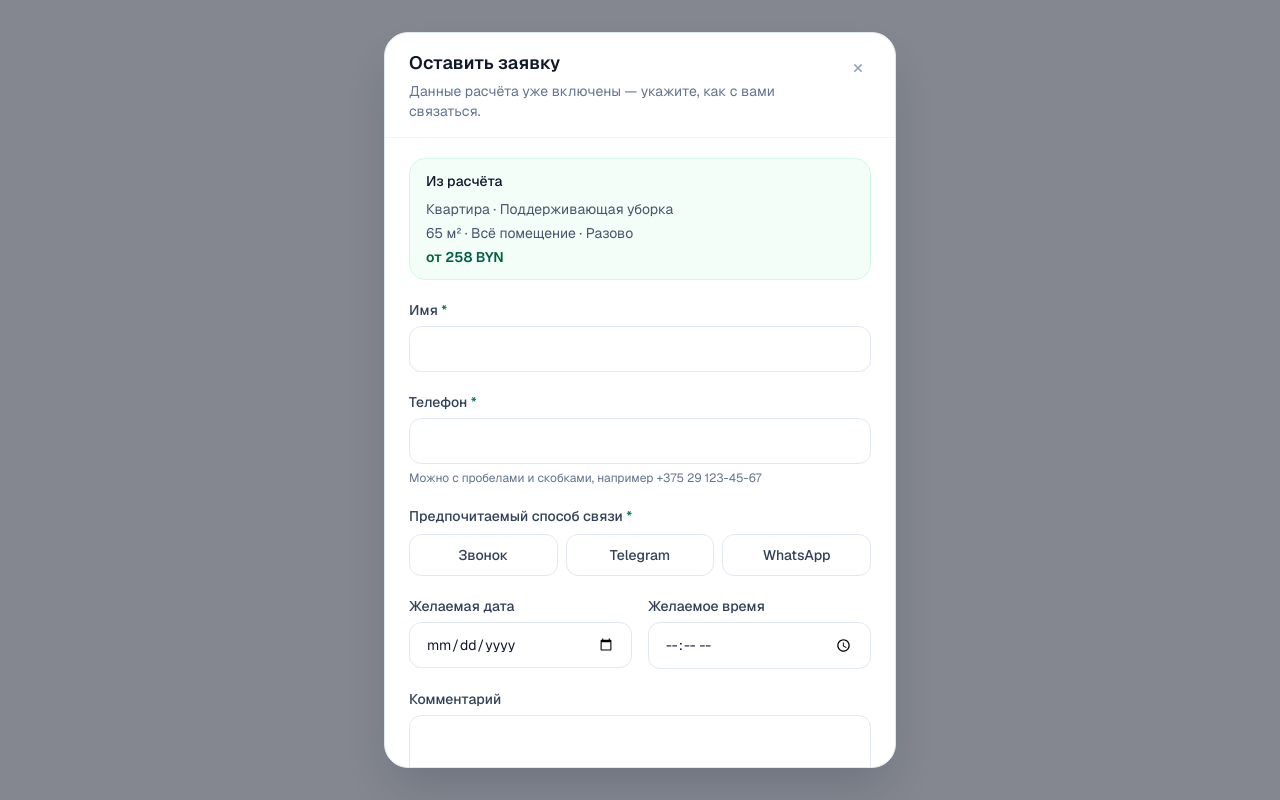
RequestQuoteDialog › shows invalid phone error near the phone field
The width and height of the screenshot is (1280, 800).
Expected: the form with test id "request-quote-form" is shown, [409,158,871,767]
Step 1. Type "Анна" into the field labelled "Имя *" → (640, 349), box [409,326,871,372]
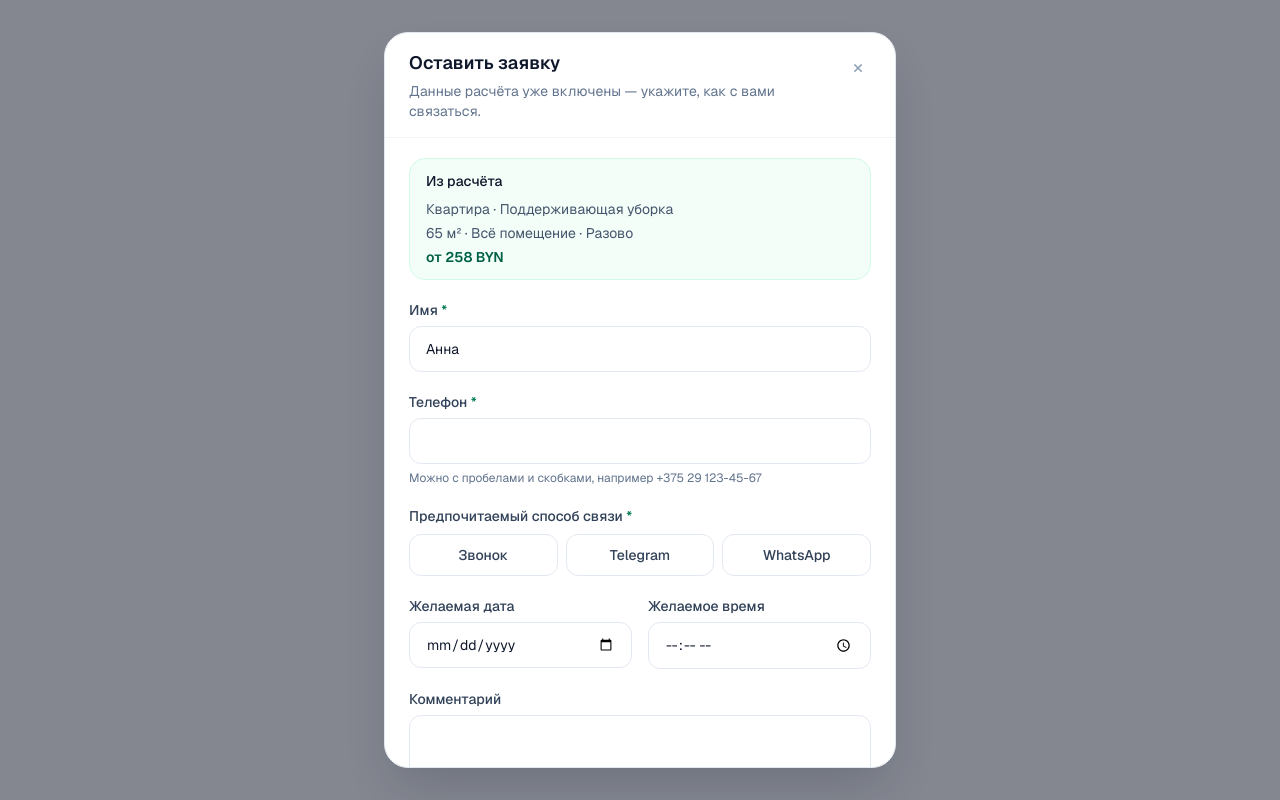
Step 2. Type "123" into the field labelled "Телефон *" → (640, 441), box [409,418,871,464]
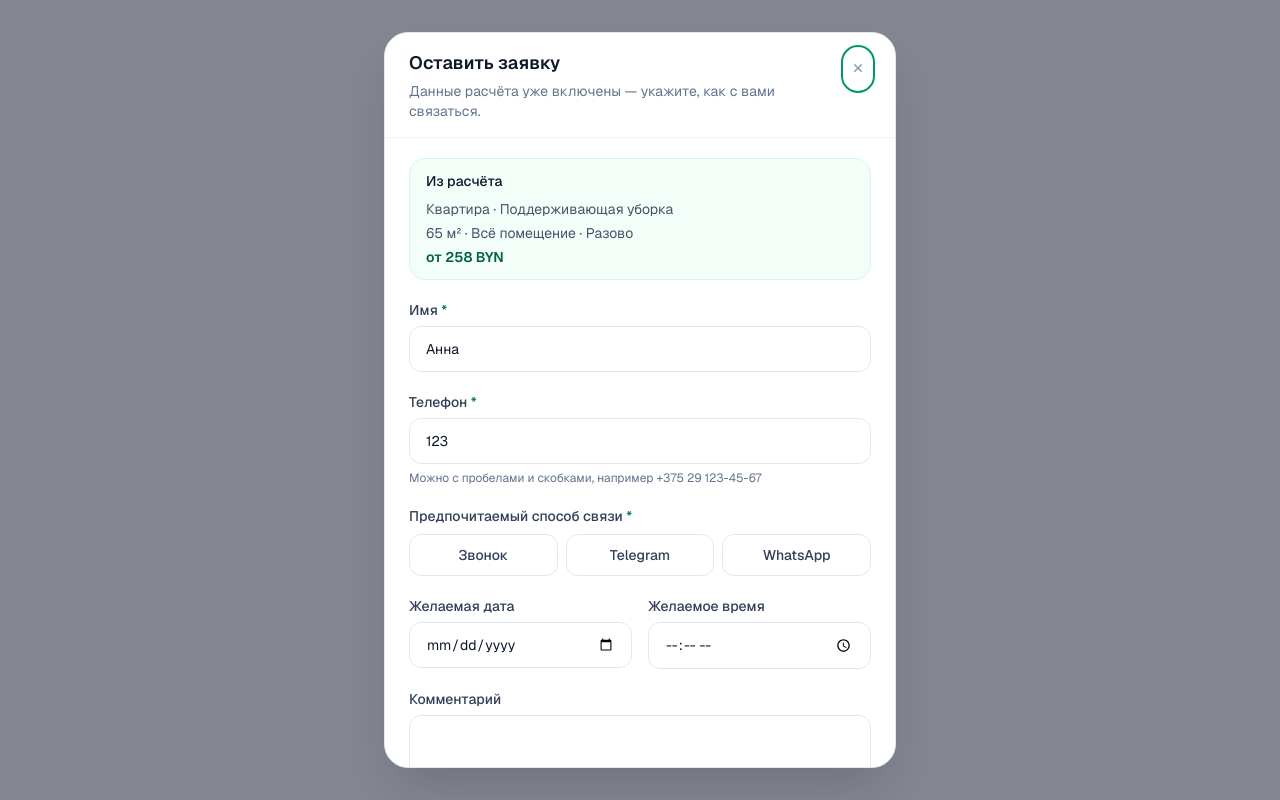
Step 3. Click the radio button labelled "Звонок" → (483, 555), box [409,534,558,576]
(page scrolled)
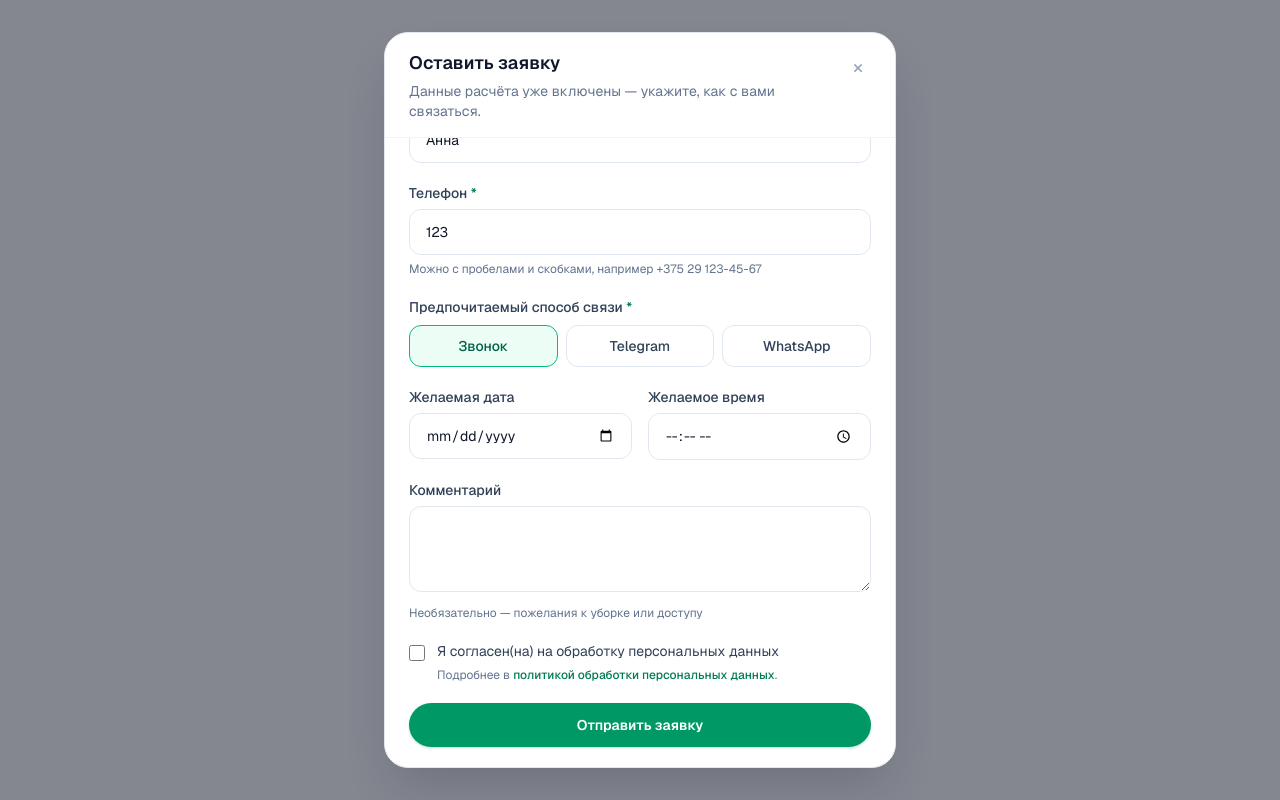
Step 4. Click the checkbox → (417, 653), box [409,645,425,661]
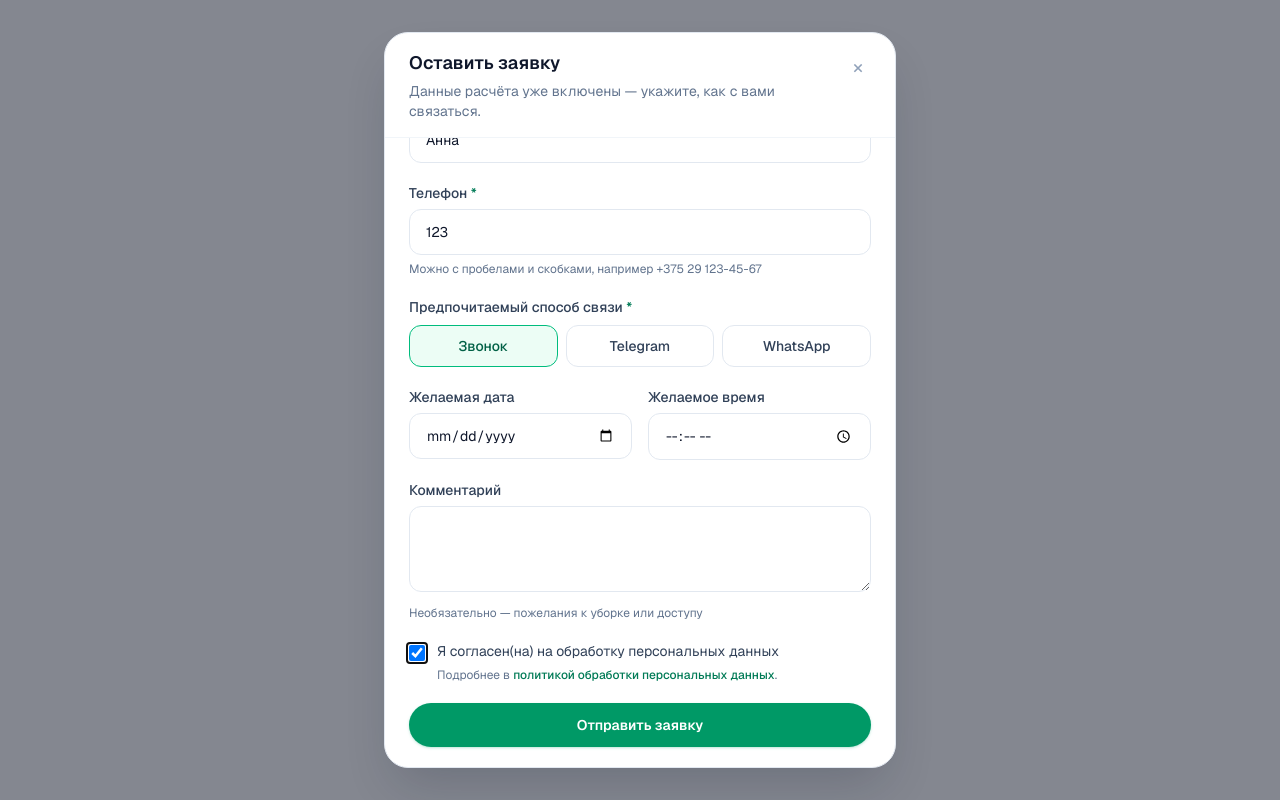
Step 5. Click the button with test id "request-submit-button" → (640, 725), box [409,703,871,747]
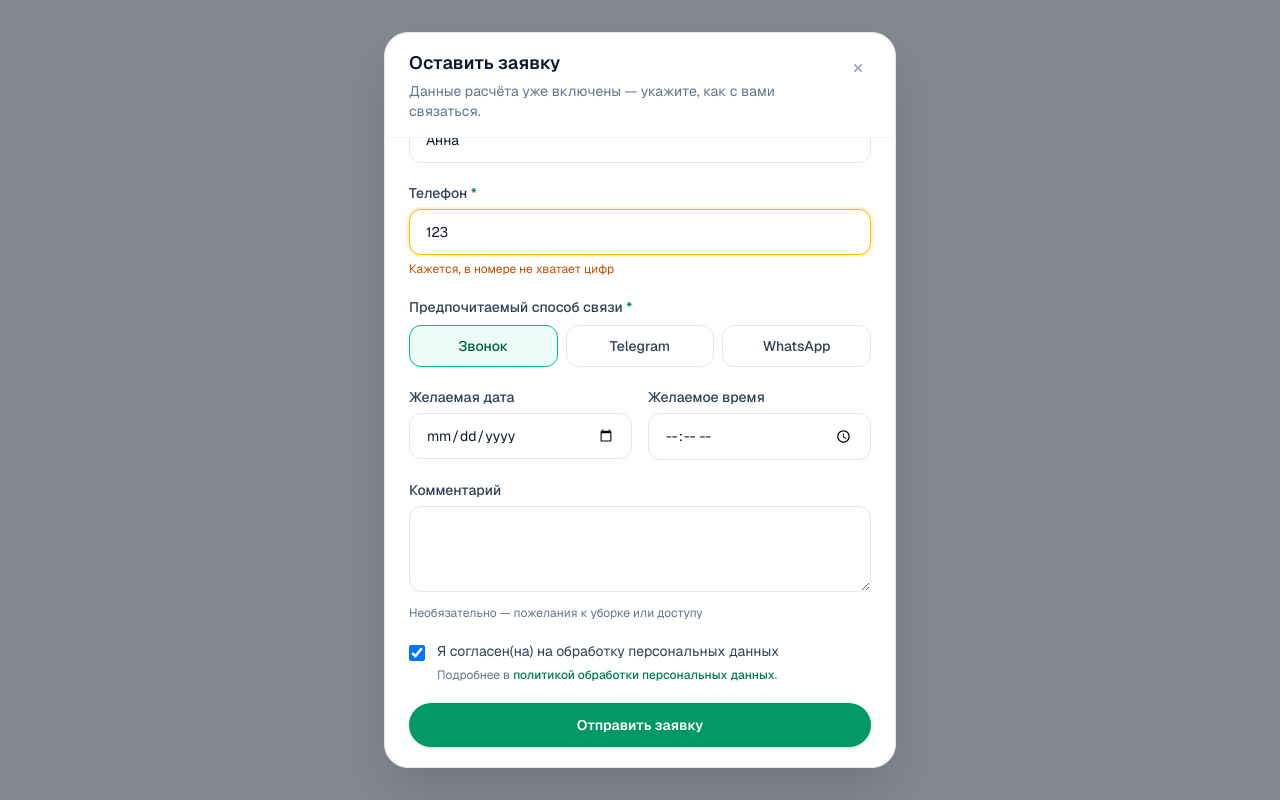
Expected: the text "Кажется, в номере не хватает цифр" is shown, [409,261,614,277]
